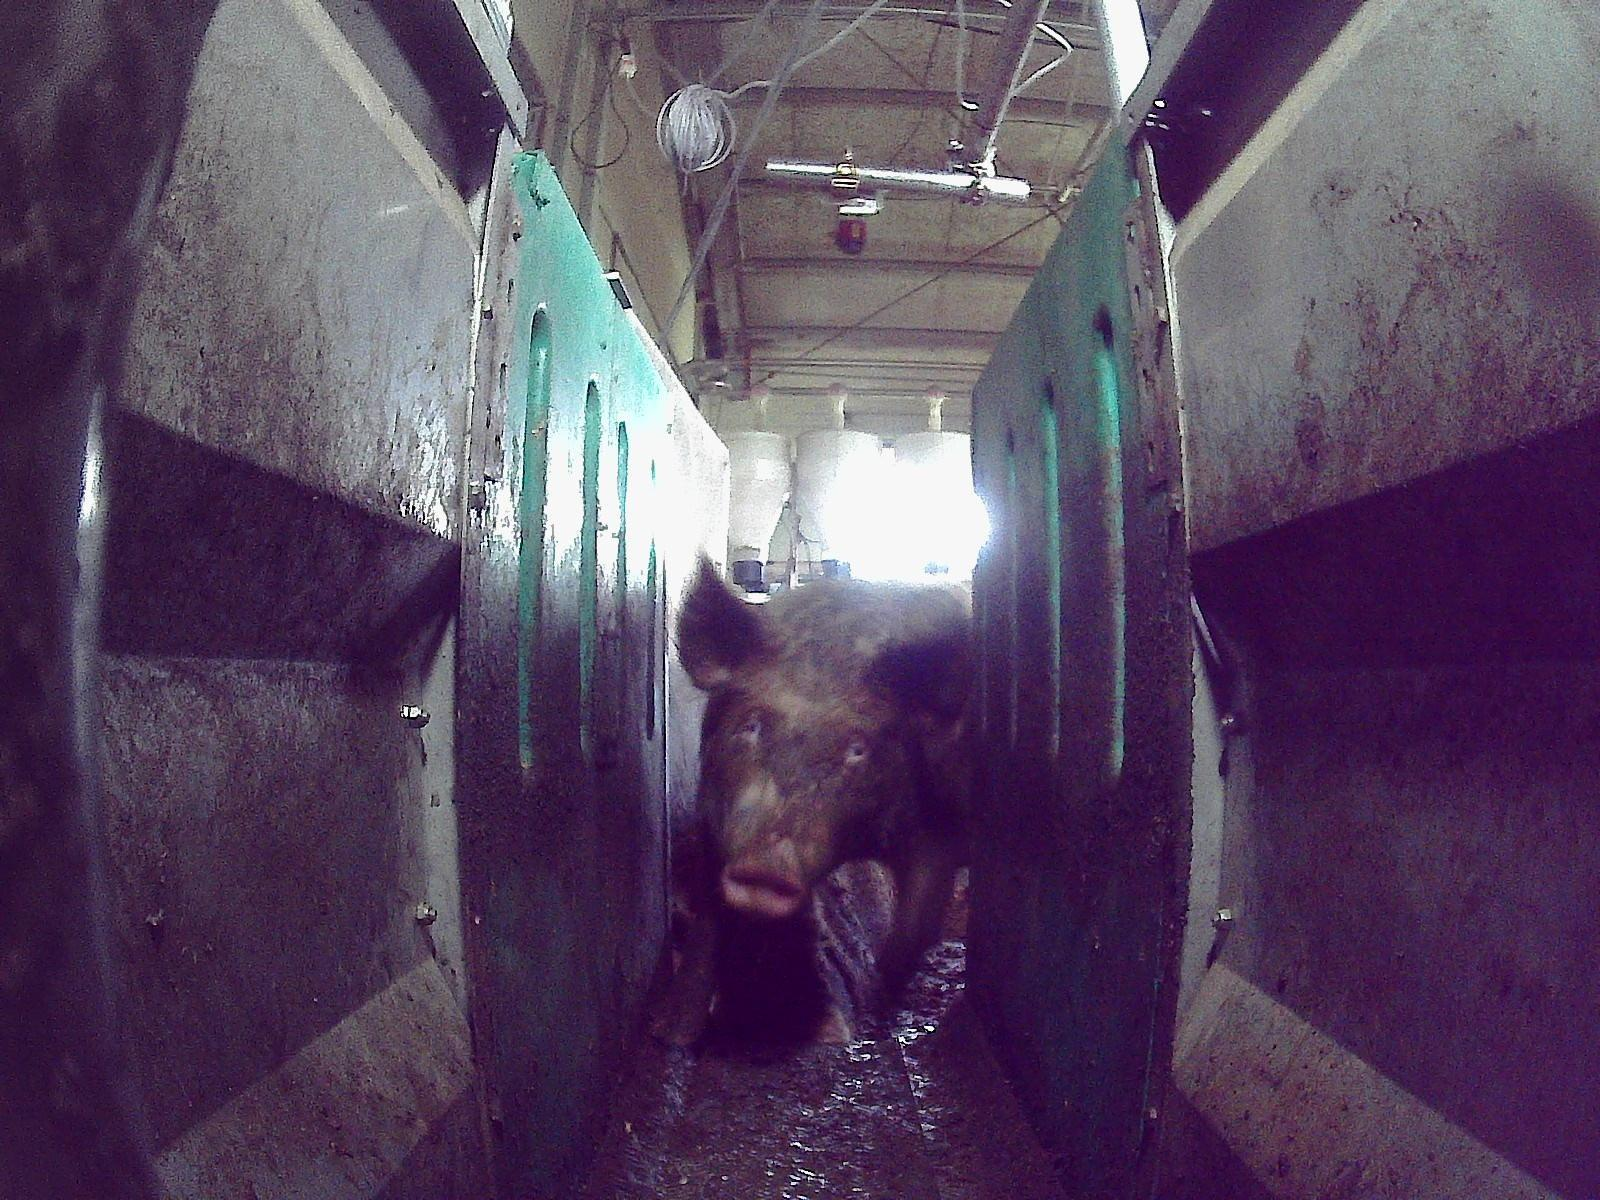Face: (709, 659, 892, 917)
